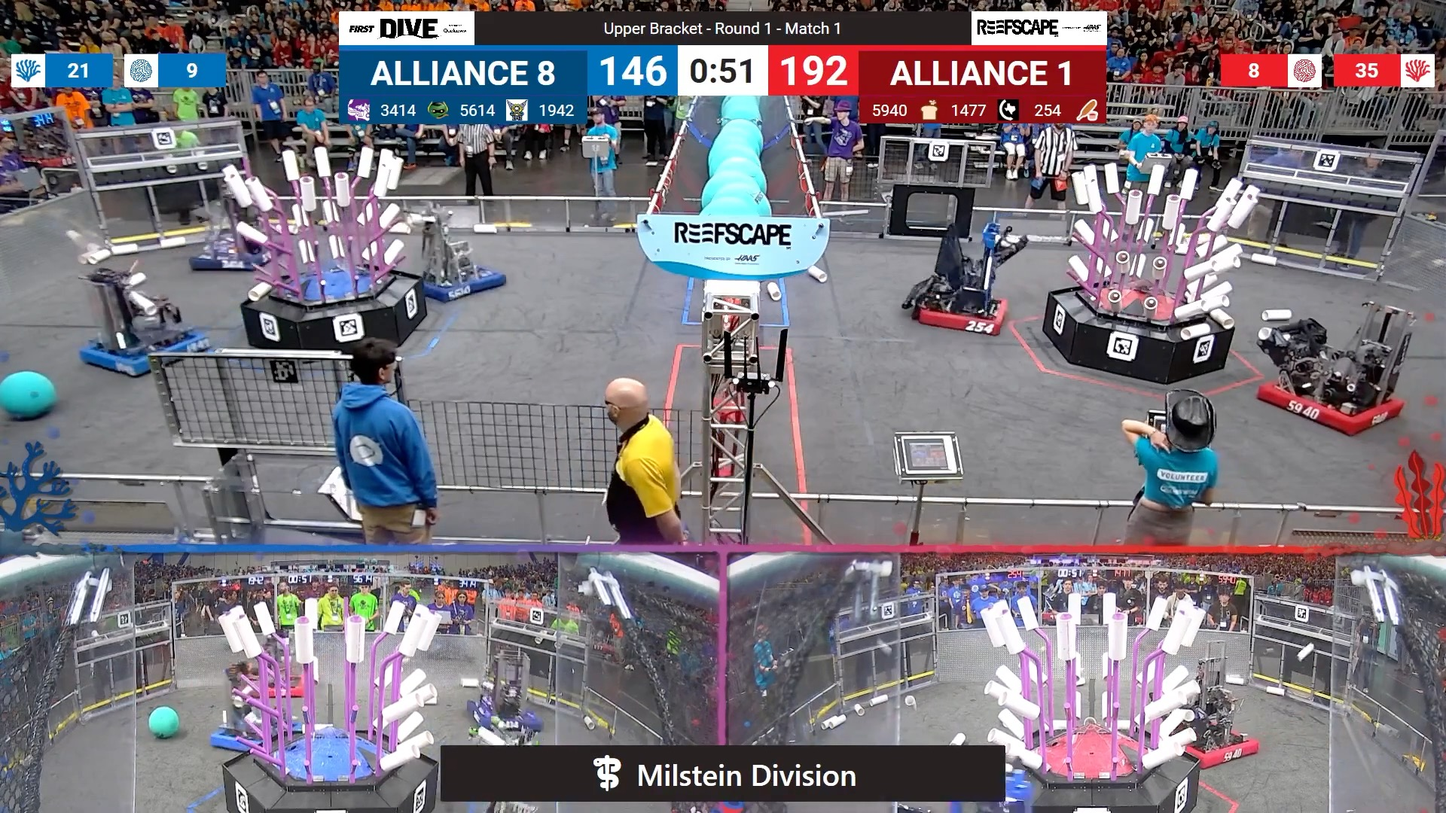bumpers: (1245, 371, 1407, 440), (73, 326, 221, 379), (904, 284, 1021, 342), (402, 258, 512, 303), (206, 712, 317, 756), (185, 236, 284, 278), (1175, 726, 1265, 771), (460, 696, 549, 739)
